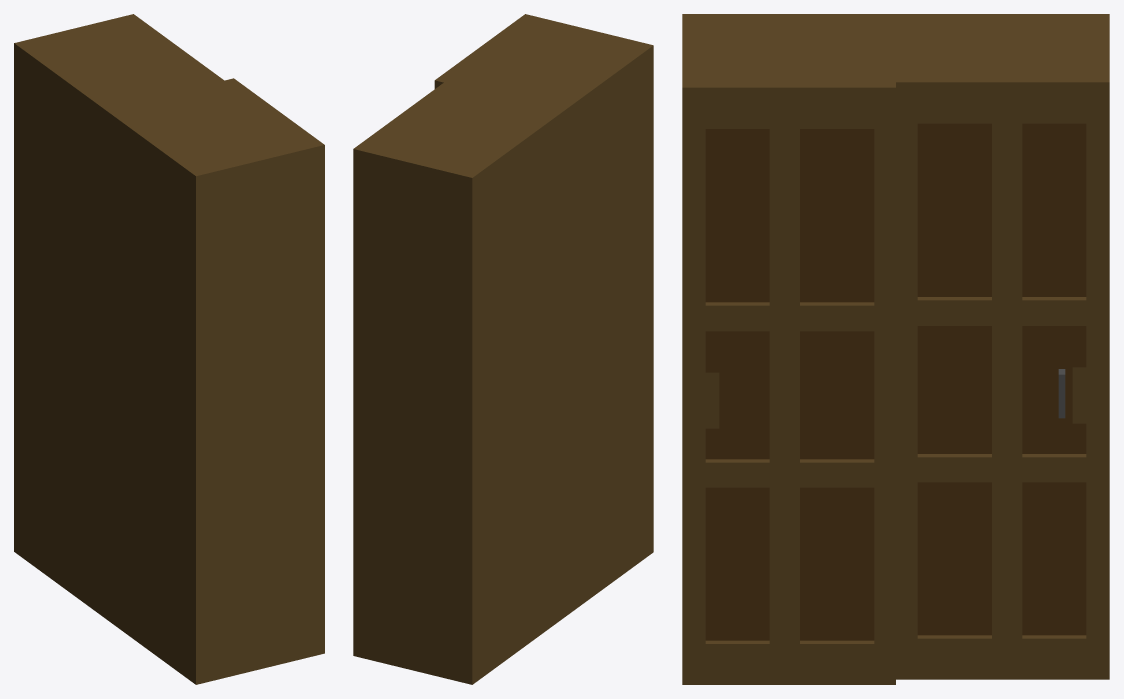
File: Closet 1.fbx
3 views of the same model, side by side, from view 1: azimuth 30°, elevation 25°; view 2: azimuth 150°, elevation 25°; view 3: azimuth 270°, elevation 25° (orthographic). The views are drawn at different scales.
Parts seen in each view (by area): view 1: Closet; view 2: Closet; view 3: Closet.
Boxes of the visible parts, <box> form: Closet: <box>14,14,324,684</box>; Closet: <box>353,14,653,684</box>; Closet: <box>682,14,1109,684</box>.
Bounding box in the file's own units: 64.12 × 242 × 157.
